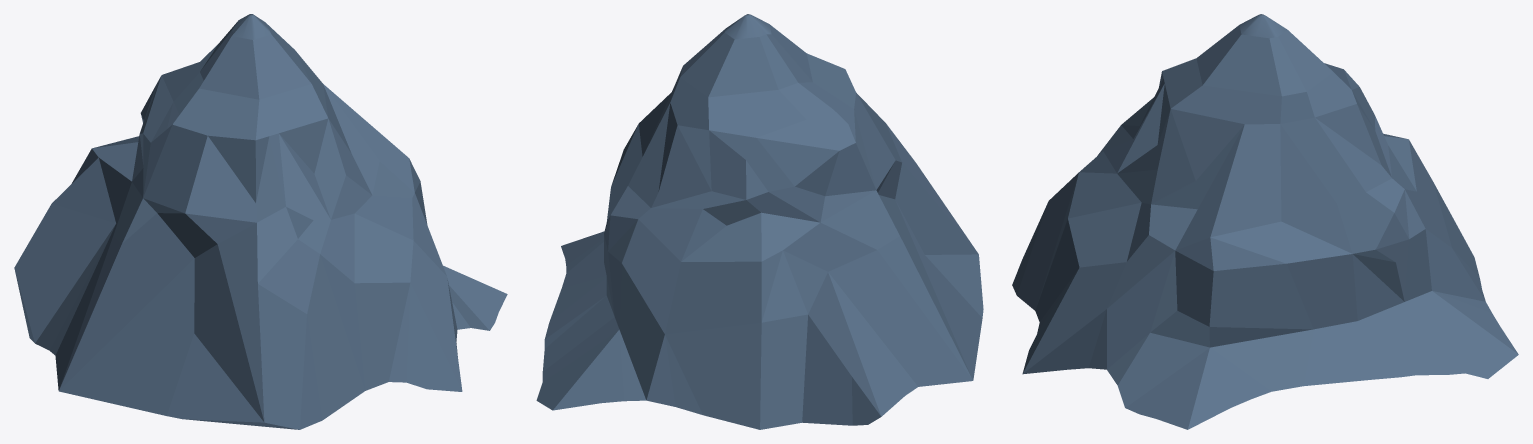
File: monte4.fbx
3 views of the same model, side by side, from view 1: azimuth 30°, elevation 25°; view 2: azimuth 150°, elevation 25°; view 3: azimuth 270°, elevation 25° (orthographic). The views are drawn at different scales.
Visible parts, largest first — view 1: m4; view 2: m4; view 3: m4.
Boxes of the visible parts, x1,y1,x2,y2 form: m4: (14, 14, 507, 429); m4: (536, 14, 983, 429); m4: (1012, 14, 1518, 429).
Bounding box in the file's own units: 22.93 × 16.45 × 23.52.
